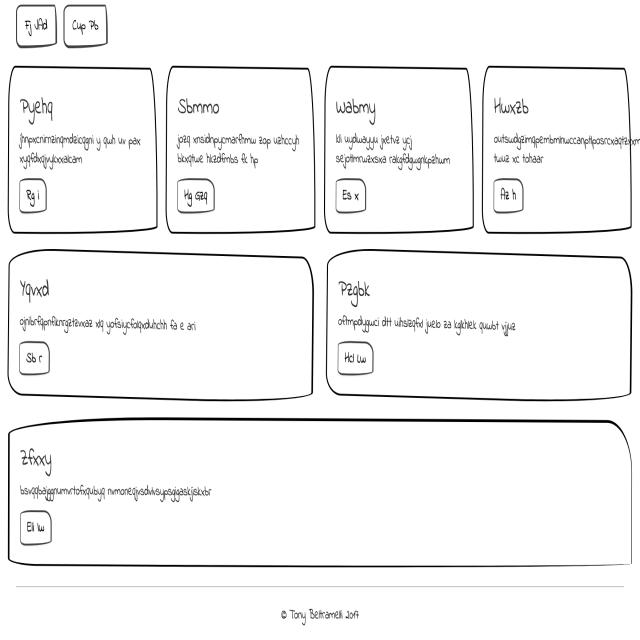Button: (332, 341, 378, 378), (176, 180, 219, 215), (494, 180, 528, 217), (20, 341, 51, 378), (19, 177, 49, 215), (335, 181, 367, 212), (20, 509, 50, 540)
Card: (12, 426, 630, 568), (329, 262, 634, 404), (9, 254, 312, 394), (482, 70, 630, 244), (163, 62, 312, 230), (326, 73, 474, 241), (8, 74, 153, 234)
Footer: (8, 570, 640, 640)
Heading 6: (486, 85, 556, 122), (334, 89, 392, 122), (19, 87, 64, 127), (174, 87, 225, 119), (12, 275, 62, 302), (337, 274, 382, 304), (19, 439, 59, 470)
Navigation Bar: (12, 7, 118, 52)
Paragraph: (333, 305, 521, 342), (332, 122, 454, 174), (488, 130, 640, 170), (16, 127, 140, 175), (172, 124, 302, 167), (17, 309, 219, 336), (20, 480, 214, 504)
